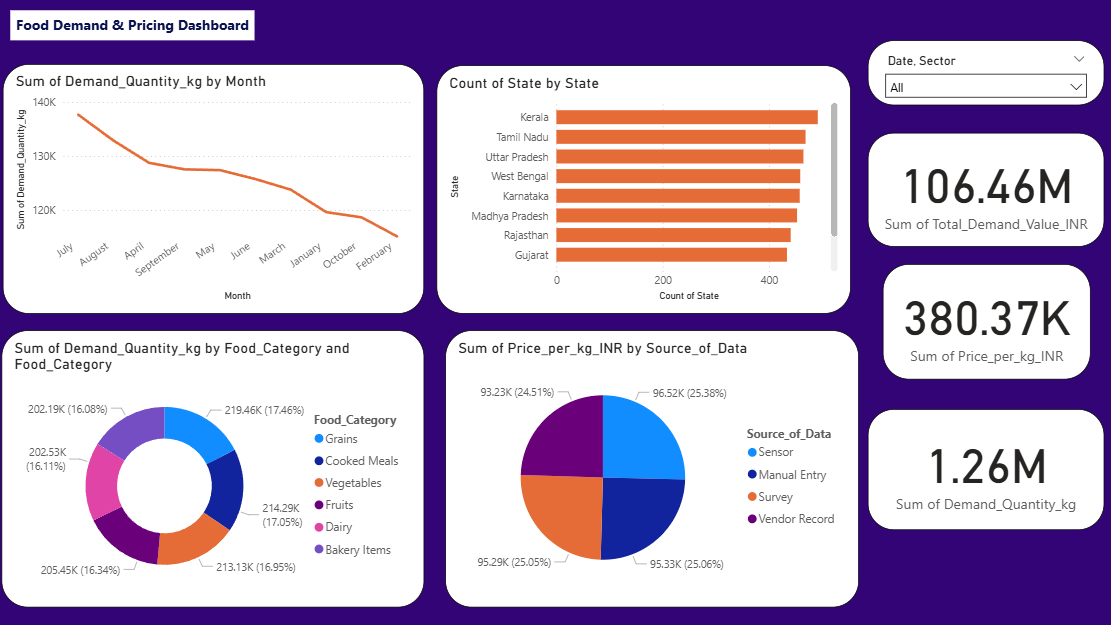

The page's visual inventory and layout, read from the dashboard file:
{"tool":"powerbi","page":{"name":"Page 1","canvas":[1280,720],"ordinal":0},"visuals":[{"type":"textbox","box":[9.6,0,279.9,46.7],"z":0},{"type":"lineChart","fields":{"Category":["Sheet1.Date.Variation.Date Hierarchy.Month"],"Y":["Sum(Sheet1.Demand_Quantity_kg)"]},"box":[9.6,74.1,481.6,285.4],"z":1000},{"type":"clusteredBarChart","fields":{"Category":["Sheet1.State"],"Y":["CountNonNull(Sheet1.State)"]},"box":[506.3,75.5,473.4,284],"z":2000},{"type":"donutChart","fields":{"Category":["Sheet1.Food_Category"],"Series":["Sheet1.Food_Category"],"Y":["Sum(Sheet1.Demand_Quantity_kg)"]},"box":[8.2,378.7,483,317],"z":3000},{"type":"pieChart","fields":{"Category":["Sheet1.Source_of_Data"],"Y":["Sum(Sheet1.Price_per_kg_INR)"]},"box":[516,379,473,317],"z":4000},{"type":"card","fields":{"Values":["Sum(Sheet1.Total_Demand_Value_INR)"]},"box":[999,152.3,270.3,130.4],"z":5000},{"type":"card","fields":{"Values":["Sum(Sheet1.Demand_Quantity_kg)"]},"box":[999,467.9,270.3,138.6],"z":6000},{"type":"card","fields":{"Values":["Sum(Sheet1.Price_per_kg_INR)"]},"box":[1015.4,303.3,237.4,131.7],"z":7000},{"type":"slicer","fields":{"Values":["Sheet1.Date","Sheet1.Sector"]},"box":[999,46.7,270.3,74.1],"z":7001}]}

Visuals, with their boxes in screenshot pixels (x1, y1, x2, y2), scaled from the page's 1280x720 canvas onto the 1111x625 screenshot:
textbox: BBox(8, 0, 251, 41)
lineChart - Sheet1.Date.Variation.Date Hierarchy.Month x Sum(Sheet1.Demand_Quantity_kg): BBox(8, 64, 426, 312)
clusteredBarChart - Sheet1.State x CountNonNull(Sheet1.State): BBox(439, 66, 850, 312)
donutChart - Sheet1.Food_Category x Sheet1.Food_Category: BBox(7, 329, 426, 604)
pieChart - Sheet1.Source_of_Data x Sum(Sheet1.Price_per_kg_INR): BBox(448, 329, 858, 604)
card - Sum(Sheet1.Total_Demand_Value_INR): BBox(867, 132, 1102, 245)
card - Sum(Sheet1.Demand_Quantity_kg): BBox(867, 406, 1102, 526)
card - Sum(Sheet1.Price_per_kg_INR): BBox(881, 263, 1087, 378)
slicer - Sheet1.Date x Sheet1.Sector: BBox(867, 41, 1102, 105)
